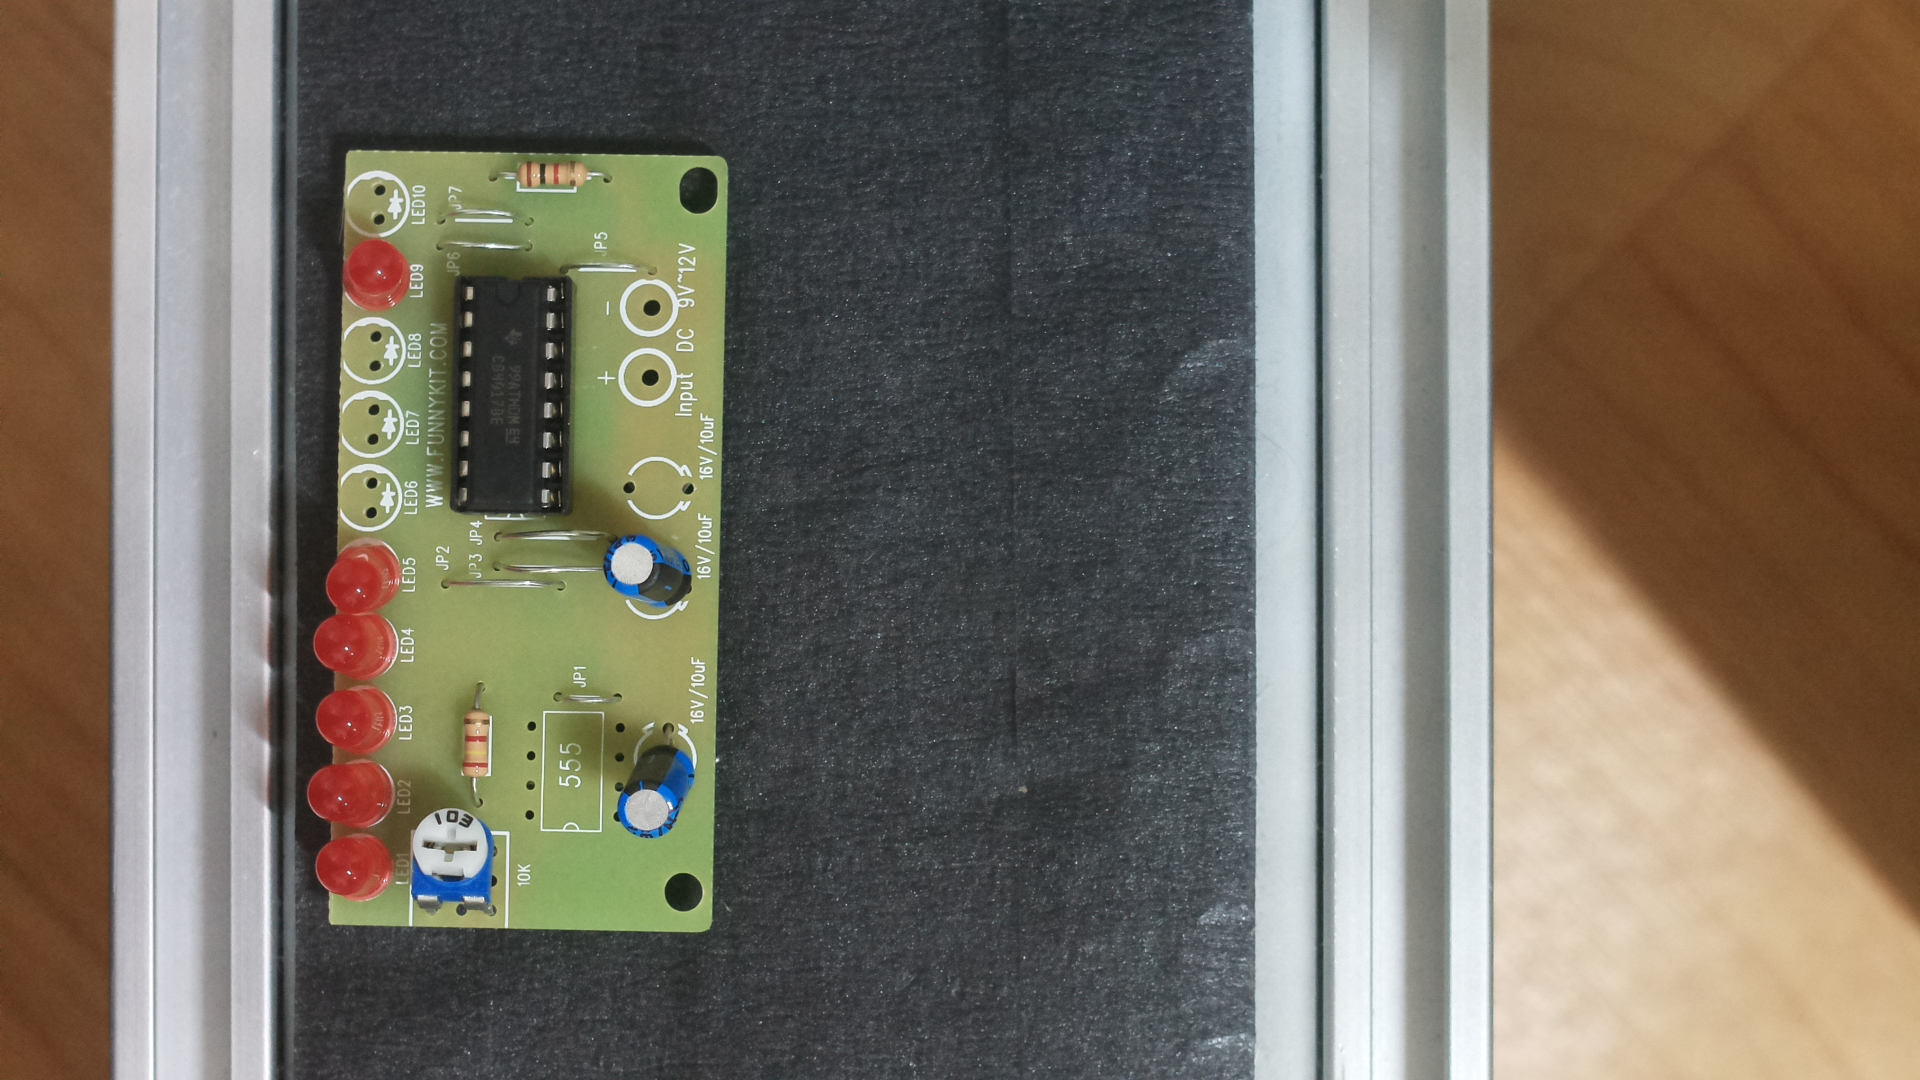B_Missing_part: (309, 123, 744, 961)
